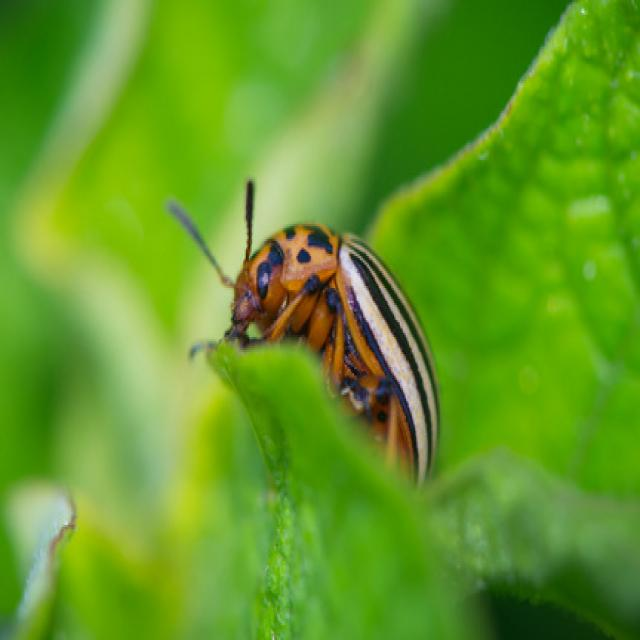ShuCaiHuaBanChong-Grown-: (216, 203, 464, 510)
